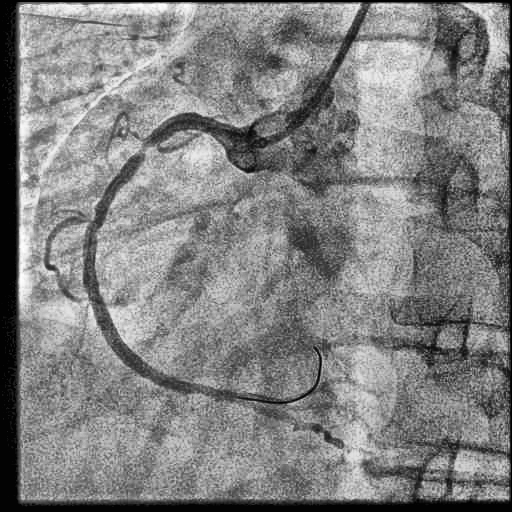pda: (236, 397, 339, 445)
rca: (83, 112, 240, 400)
